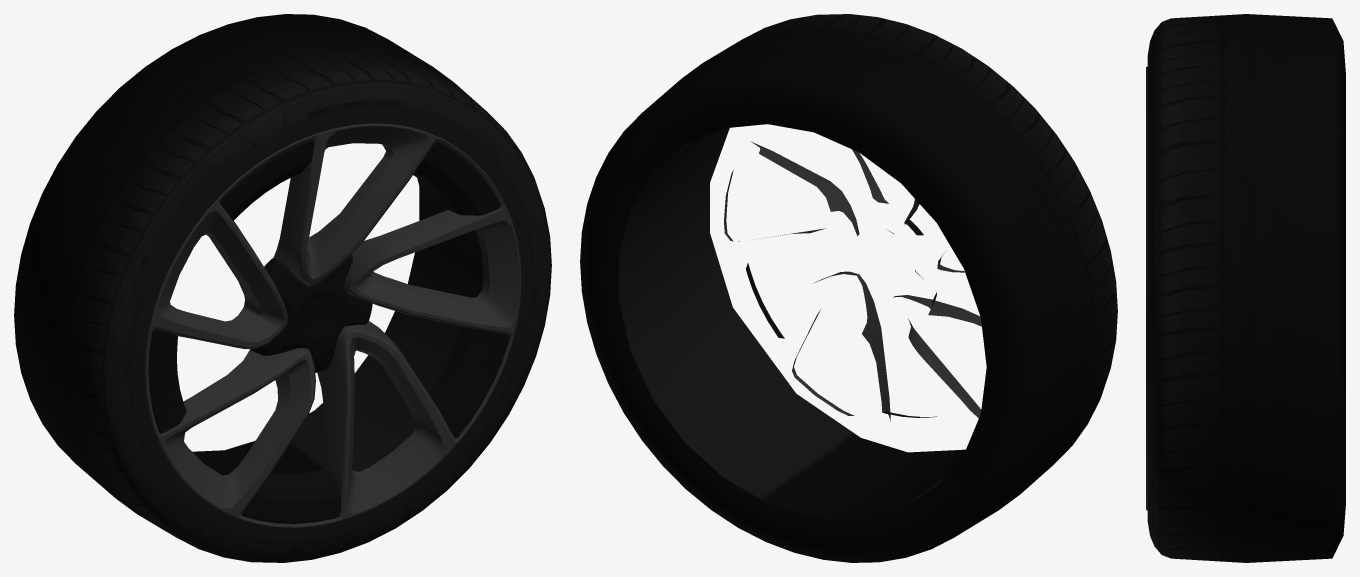
The model's file is Wishbone_19.glb.
The picture shows the model from 3 angles, left to right: view 1: azimuth 30°, elevation 25°; view 2: azimuth 150°, elevation 25°; view 3: azimuth 270°, elevation 25°; orthographic projection. The views are drawn at different scales.
Parts seen in each view (by area): view 1: Wheel_Wishbone; view 2: Wheel_Wishbone; view 3: Wheel_Wishbone.
Part boxes in pixels (<box>): Wheel_Wishbone: <box>14,14,551,562</box>; Wheel_Wishbone: <box>580,14,1117,562</box>; Wheel_Wishbone: <box>1146,14,1345,562</box>.
Bounding box in the file's own units: 0.6735 × 0.6722 × 0.2449.
2 materials, 2 textured.
